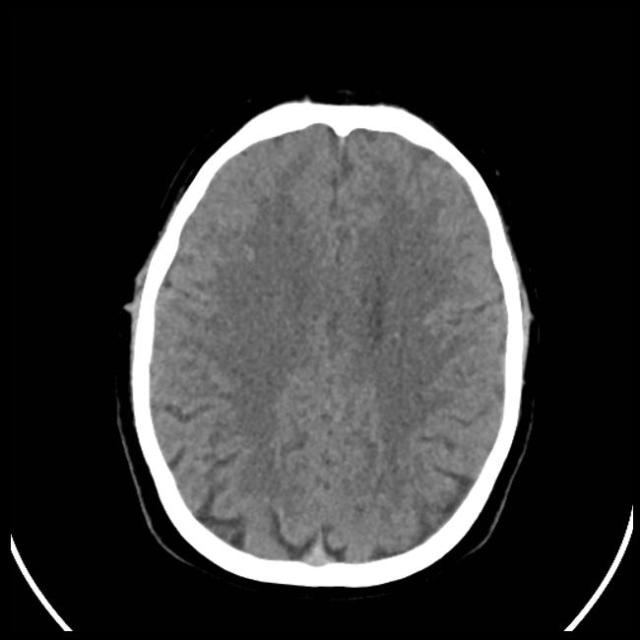lesion: (120, 96, 535, 582)
